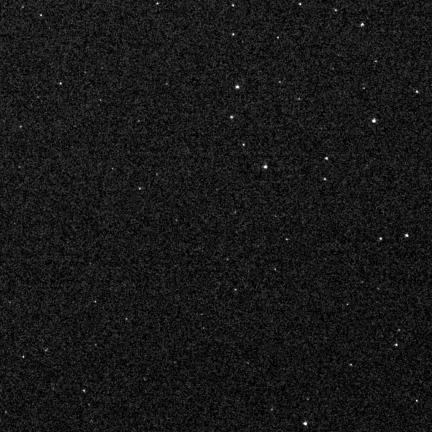blob: (263, 165, 268, 170), (405, 234, 409, 238), (372, 119, 376, 123), (325, 157, 329, 161), (379, 238, 383, 241), (232, 33, 235, 37), (416, 90, 419, 94), (236, 85, 239, 89), (230, 116, 234, 119), (361, 23, 364, 26), (324, 178, 327, 181)
